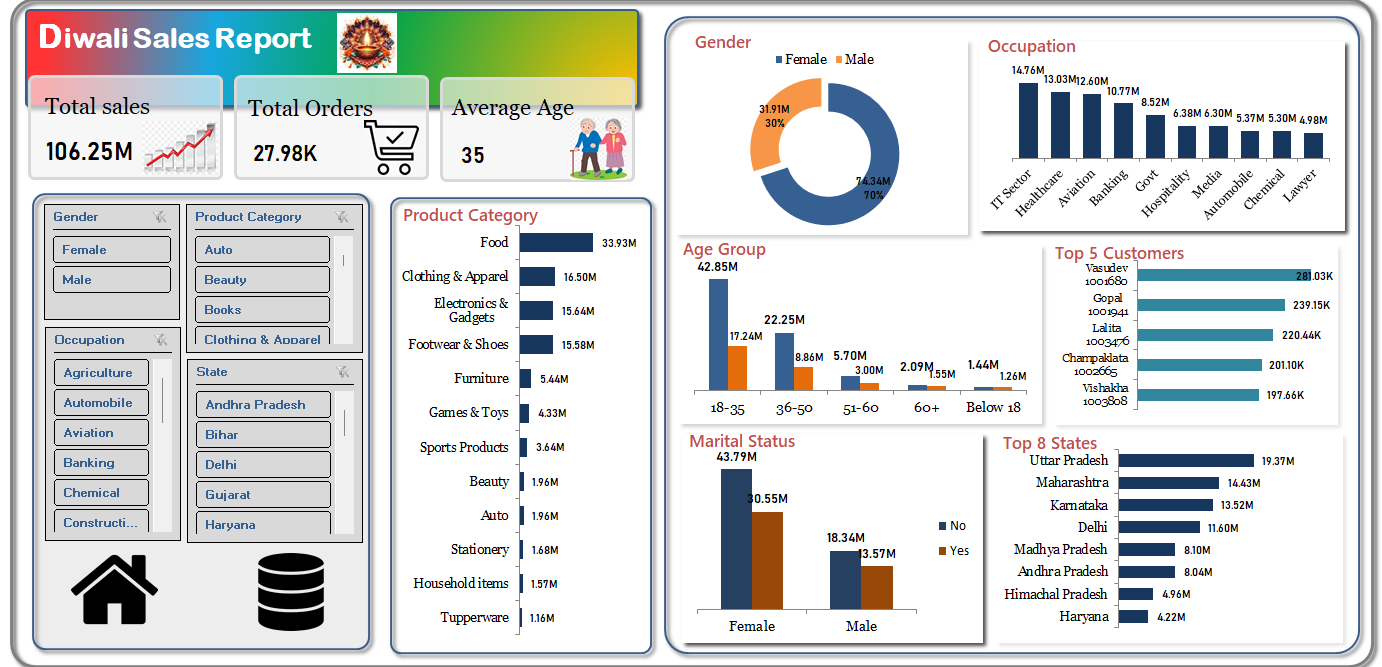

What the dashboard file says about the page in this screenshot:
{"tool":"powerbi","page":{"name":"Updated Dashboard","canvas":[1280,720],"ordinal":2},"visuals":[{"type":"shape","box":[27,8,819.2,77.9],"z":0},{"type":"shape","box":[27,105,181.3,591.7],"z":1000},{"type":"shape","box":[214.7,100.2,291.1,286.3],"z":2000},{"type":"shape","box":[225.9,400.8,370.6,281.5],"z":3000},{"type":"shape","box":[750.8,105,516.9,281.5],"z":4000},{"type":"shape","box":[609.2,400.8,281.5,279.9],"z":5000},{"type":"shape","box":[903.5,400.8,364.2,281.5],"z":6000},{"type":"textbox","box":[124.2,17.7,429,62.9],"z":7000},{"type":"slicer","fields":{"Values":["Diwali Sales Data.Gender"]},"box":[655.3,12.7,190.9,66.8],"z":8000},{"type":"slicer","fields":{"Values":["Diwali Sales Data.State"]},"box":[965.5,15.9,275.2,70],"z":9000},{"type":"card","title":"Unique Products","fields":{"Values":["Diwali Sales Data.Product_ID"]},"box":[27,119.3,181.3,114.5],"z":10000},{"type":"card","title":"Unique Customers","fields":{"Values":["All Measure.Total Customers"]},"box":[27,248.1,181.3,116.1],"z":11000},{"type":"card","title":"Total Sales","fields":{"Values":["All Measure.TotalSales"]},"box":[31.8,373.8,146.3,101.8],"z":12000},{"type":"card","title":"Male","fields":{"Values":["All Measure.Male"]},"box":[31.8,480.4,154.3,84.3],"z":13000},{"type":"card","title":"Female","fields":{"Values":["All Measure.Female"]},"box":[31.8,582.2,154.3,98.6],"z":14000},{"type":"card","fields":{"Values":["All Measure.% Male"]},"box":[111.3,462.9,112.9,82.7],"z":15000},{"type":"card","fields":{"Values":["All Measure.% Female"]},"box":[124.1,577.4,87.5,50.9],"z":16000},{"type":"barChart","title":"Product Category","fields":{"Category":["Diwali Sales Data.Product_Category"],"Y":["Diwali Sales Data.Amount"]},"box":[217.9,111.3,284.7,268.8],"z":17000},{"type":"clusteredColumnChart","title":"Total Purchase by Age Group","fields":{"Category":["Diwali Sales Data.Age Group"],"Y":["Diwali Sales Data.Amount"],"Series":["Diwali Sales Data.Gender"]},"box":[766.7,116.1,489.9,254.5],"z":18000},{"type":"clusteredColumnChart","title":"Sales by Marital Status","fields":{"Category":["Diwali Sales Data.Marital_Status"],"Y":["Diwali Sales Data.Amount"],"Series":["Diwali Sales Data.Gender"]},"box":[618.7,413.6,254.5,251.3],"z":19000},{"type":"clusteredBarChart","title":"Customer''s Occupation","fields":{"Category":["Diwali Sales Data.Occupation"],"Y":["Diwali Sales Data.Amount"]},"box":[233.8,413.6,359.5,251.3],"z":20000},{"type":"clusteredBarChart","title":"Esteemed Buyers","fields":{"Category":["Diwali Sales Data.Cust_name"],"Y":["All Measure.Top Customers"]},"box":[914.6,413.6,334,267.2],"z":21000},{"type":"slicer","fields":{"Values":["Dynamic Customers.Dynamic Customers"]},"box":[1146.8,400.8,101.8,46.1],"z":22000},{"type":"card","fields":{"Values":["All Measure.TopCustomersTitle"]},"box":[903.5,437.4,182.9,25.4],"z":22001},{"type":"shape","box":[510.6,106.6,235.4,275.2],"z":22002},{"type":"donutChart","title":"Total Purchase by Gender","fields":{"Category":["Diwali Sales Data.Gender"],"Y":["Diwali Sales Data.Amount"]},"box":[510.6,116.1,238.6,259.3],"z":22003},{"type":"shape","box":[35,238.6,163.8,19.1],"z":22004},{"type":"shape","box":[31.8,362.7,163.8,19.1],"z":22005},{"type":"shape","box":[31.8,466,163.8,19.1],"z":22006},{"type":"shape","box":[35,567.8,163.8,19.1],"z":22007},{"type":"shape","box":[32,9.5,79.5,76.5],"z":22008},{"type":"image","box":[41.5,16,60,62.5],"z":22009}]}

Visuals, with their boxes on the page's 1280x720 design canvas (x1, y1, x2, y2). These are canvas units, not pixel positions in the 1382x667 screenshot, which may show the page scaled, cropped or inside an application window:
shape: locate(27, 8, 846, 86)
shape: locate(27, 105, 208, 697)
shape: locate(215, 100, 506, 386)
shape: locate(226, 401, 596, 682)
shape: locate(751, 105, 1268, 386)
shape: locate(609, 401, 891, 681)
shape: locate(904, 401, 1268, 682)
textbox: locate(124, 18, 553, 81)
slicer - Diwali Sales Data.Gender: locate(655, 13, 846, 80)
slicer - Diwali Sales Data.State: locate(966, 16, 1241, 86)
"Unique Products" card: locate(27, 119, 208, 234)
"Unique Customers" card: locate(27, 248, 208, 364)
"Total Sales" card: locate(32, 374, 178, 476)
"Male" card: locate(32, 480, 186, 565)
"Female" card: locate(32, 582, 186, 681)
card - All Measure.% Male: locate(111, 463, 224, 546)
card - All Measure.% Female: locate(124, 577, 212, 628)
"Product Category" barChart: locate(218, 111, 503, 380)
"Total Purchase by Age Group" clusteredColumnChart: locate(767, 116, 1257, 371)
"Sales by Marital Status" clusteredColumnChart: locate(619, 414, 873, 665)
"Customer''s Occupation" clusteredBarChart: locate(234, 414, 593, 665)
"Esteemed Buyers" clusteredBarChart: locate(915, 414, 1249, 681)
slicer - Dynamic Customers.Dynamic Customers: locate(1147, 401, 1249, 447)
card - All Measure.TopCustomersTitle: locate(904, 437, 1086, 463)
shape: locate(511, 107, 746, 382)
"Total Purchase by Gender" donutChart: locate(511, 116, 749, 375)
shape: locate(35, 239, 199, 258)
shape: locate(32, 363, 196, 382)
shape: locate(32, 466, 196, 485)
shape: locate(35, 568, 199, 587)
shape: locate(32, 10, 112, 86)
image: locate(42, 16, 102, 78)
